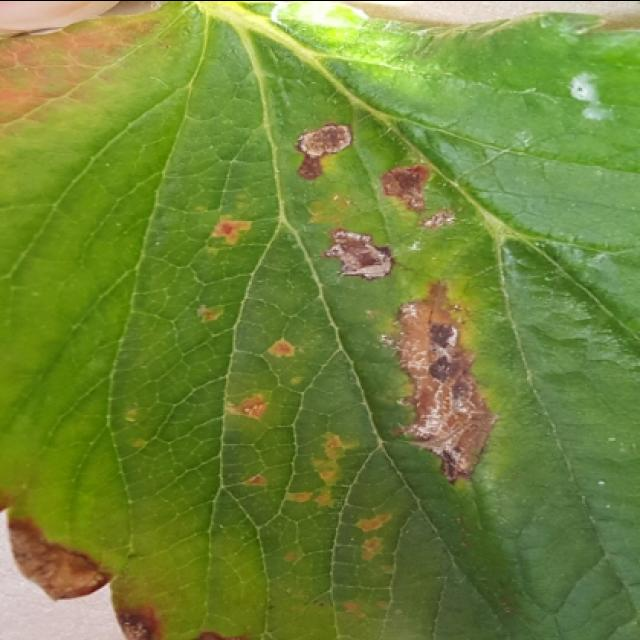Angular Leafspot: (185, 87, 509, 620)
